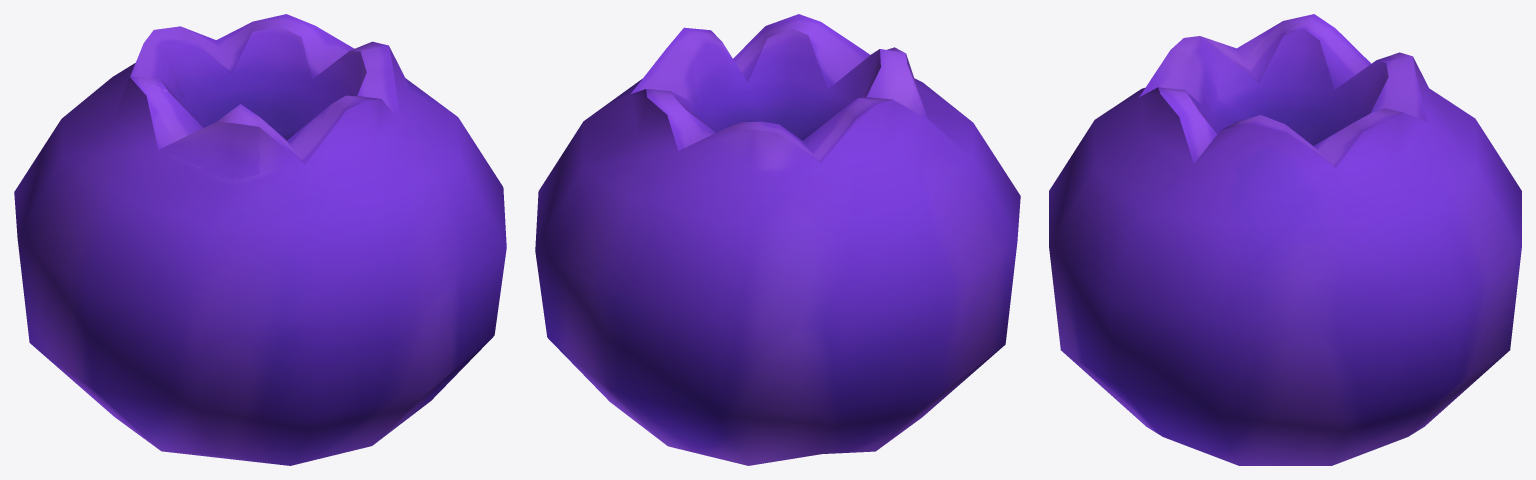
File: Blueberry .fbx
3 renders of one model, left to right at view 1: azimuth 30°, elevation 25°; view 2: azimuth 150°, elevation 25°; view 3: azimuth 270°, elevation 25°, orthographic.
Parts seen in each view (by area): view 1: 1.001; view 2: 1.001; view 3: 1.001.
Part boxes in pixels (box(x1,y1,x2,y2)): 1.001: box(14, 14, 506, 465); 1.001: box(535, 14, 1020, 465); 1.001: box(1049, 14, 1521, 465).
Bounding box in the file's own units: 0.5481 × 0.4656 × 0.5481.
